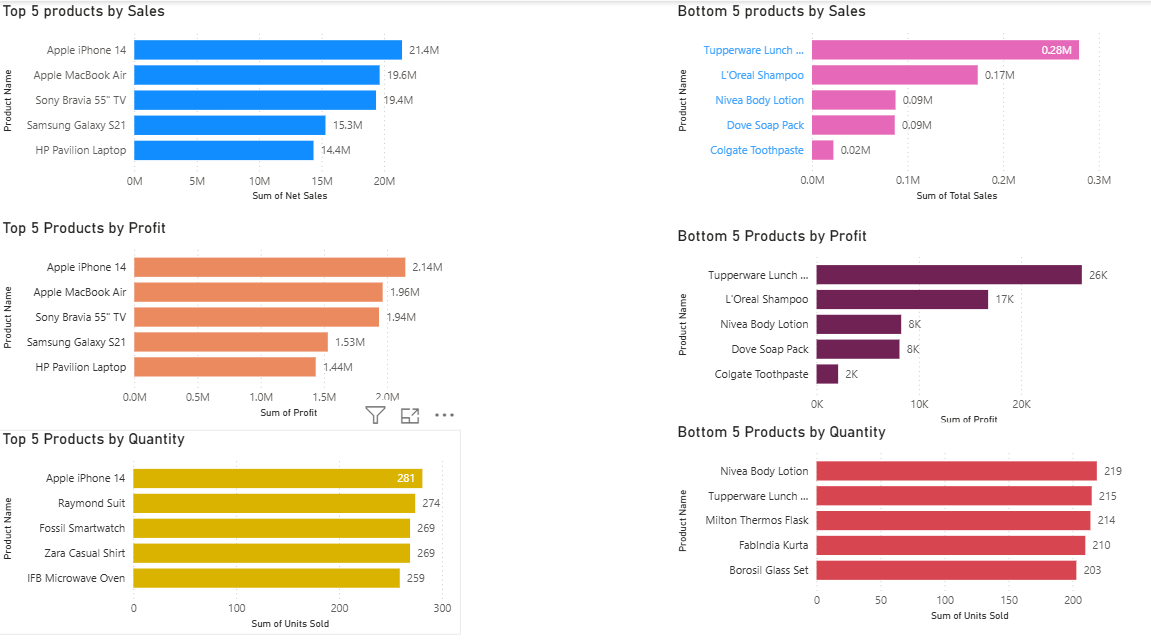

The page's visual inventory and layout, read from the dashboard file:
{"tool":"powerbi","page":{"name":"Requirment 1 ","canvas":[1280,720],"ordinal":0},"visuals":[{"type":"barChart","title":"Top 5 products by Sales","fields":{"Category":["Dim Product.Product Name"],"Y":["Sum(Fact Table.Net Sales)"]},"box":[0,0,508.2,225.5],"z":0},{"type":"barChart","title":"Bottom 5 products by Sales","fields":{"Category":["Dim Product.Product Name"],"Y":["Sum(Fact Table.Total Sales)"]},"box":[741,0,489.9,225],"z":1000},{"type":"barChart","title":"Top 5 Products by Profit","fields":{"Category":["Dim Product.Product Name"],"Y":["Sum(Fact Table.Profit )"]},"box":[0,239.1,508,224.1],"z":2000},{"type":"barChart","title":"Bottom  5 Products by Profit","fields":{"Category":["Dim Product.Product Name"],"Y":["Sum(Fact Table.Profit )"]},"box":[741,247,507.7,223.7],"z":3000},{"type":"barChart","title":"Top 5 Products by Quantity","fields":{"Category":["Dim Product.Product Name"],"Y":["Sum(Fact Table.Units Sold)"]},"box":[0,471.3,508,224.1],"z":4000},{"type":"barChart","title":"Bottom 5 Products by Quantity","fields":{"Category":["Dim Product.Product Name"],"Y":["Sum(Fact Table.Units Sold)"]},"box":[741,462.4,509.1,223.7],"z":5000}]}

Visuals, with their boxes in screenshot pixels (x1, y1, x2, y2), scaled from the page's 1280x720 canvas onto the 1151x643 screenshot:
"Top 5 products by Sales" barChart: (left=0, top=0, right=457, bottom=201)
"Bottom 5 products by Sales" barChart: (left=666, top=0, right=1107, bottom=201)
"Top 5 Products by Profit" barChart: (left=0, top=214, right=457, bottom=414)
"Bottom  5 Products by Profit" barChart: (left=666, top=221, right=1123, bottom=420)
"Top 5 Products by Quantity" barChart: (left=0, top=421, right=457, bottom=621)
"Bottom 5 Products by Quantity" barChart: (left=666, top=413, right=1124, bottom=613)
